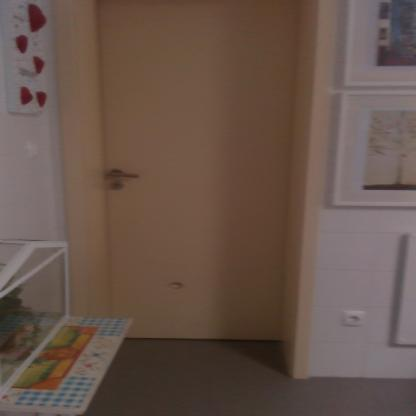closed: (55, 1, 348, 337)
